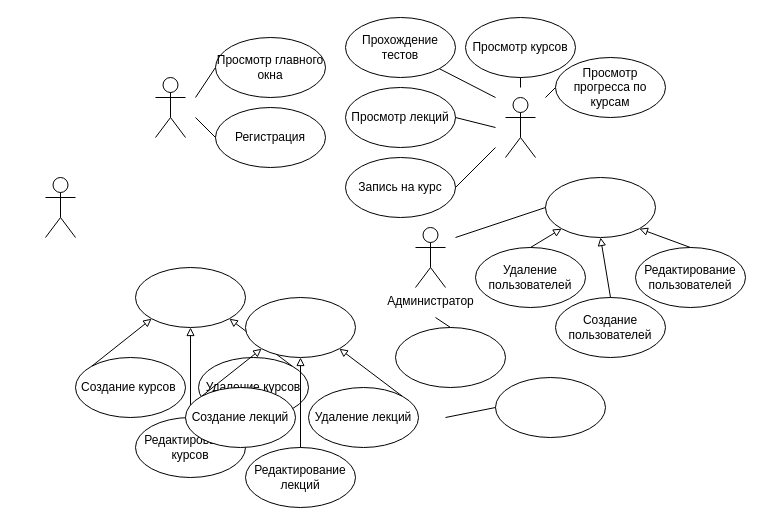
This 763x525 diagram has some shape labels left out. The shapes that lost their labels are listed below. From the top down, each one's centre as x and y in pixels, then its label:
At point (170, 107): "Гость".
At point (520, 127): "Студент".
At point (60, 207): "Преподаватель".
At point (600, 207): "Управление пользователями".
At point (190, 297): "Управление курсами".
At point (300, 327): "Управление лекциями".
At point (450, 357): "Формирование списка курсов в PDF".
At point (550, 407): "Импорт курсов из формата .xls, .csv".
